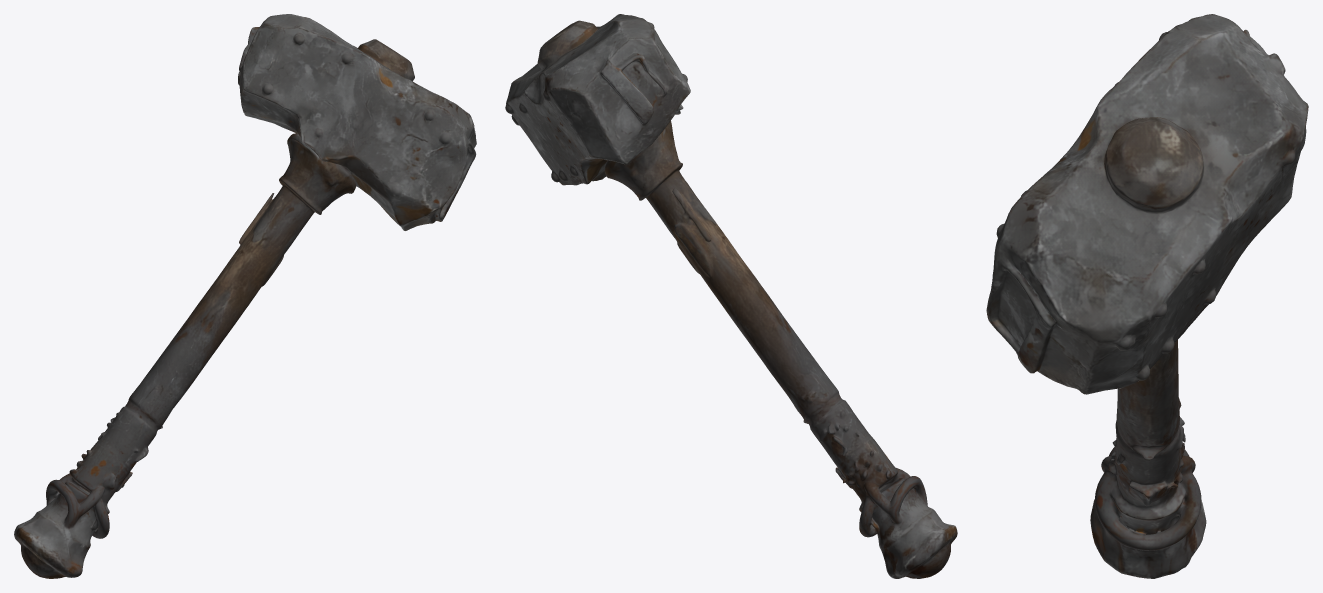
Rendered from prop_hammer_smith.glb.
3 views of the same model, side by side, from view 1: azimuth 30°, elevation 25°; view 2: azimuth 150°, elevation 25°; view 3: azimuth 270°, elevation 25° (orthographic). The views are drawn at different scales.
Bounding box in the file's own units: 0.912 × 0.9713 × 0.3898.
Materials: 1 (1 with a texture image).
